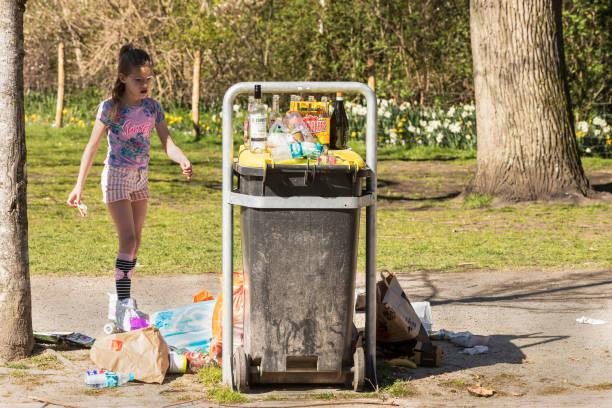trash: (86, 282, 227, 391), (234, 89, 366, 173), (379, 273, 447, 370)
trash_can_overflow: (185, 53, 410, 405)
